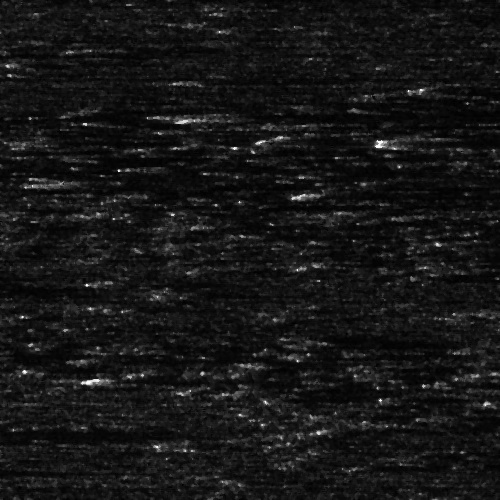object: (280, 184, 395, 199), (150, 109, 255, 120), (9, 176, 92, 189), (85, 372, 168, 383), (58, 355, 141, 362), (410, 412, 483, 417), (9, 137, 82, 142), (122, 164, 185, 169), (225, 232, 288, 237), (290, 350, 331, 357), (381, 135, 392, 142)
shadow: (0, 168, 355, 179), (203, 109, 500, 120), (337, 184, 500, 199), (127, 372, 324, 383), (100, 355, 352, 362), (51, 176, 181, 189), (311, 350, 500, 357), (154, 164, 357, 169), (0, 349, 53, 366), (257, 232, 391, 237), (0, 290, 86, 297), (387, 135, 459, 142), (46, 137, 112, 142), (446, 412, 500, 417)
